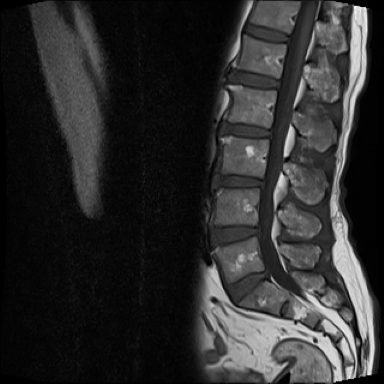Lumbar Disc Bulge (LDB): (220, 261, 275, 310), (202, 219, 265, 251), (209, 170, 270, 192)
Normal IVD: (221, 62, 286, 95), (235, 19, 296, 47), (216, 116, 280, 142)
Spinal Stenosis (SS): (249, 217, 267, 242), (259, 263, 275, 287), (255, 170, 270, 193)
